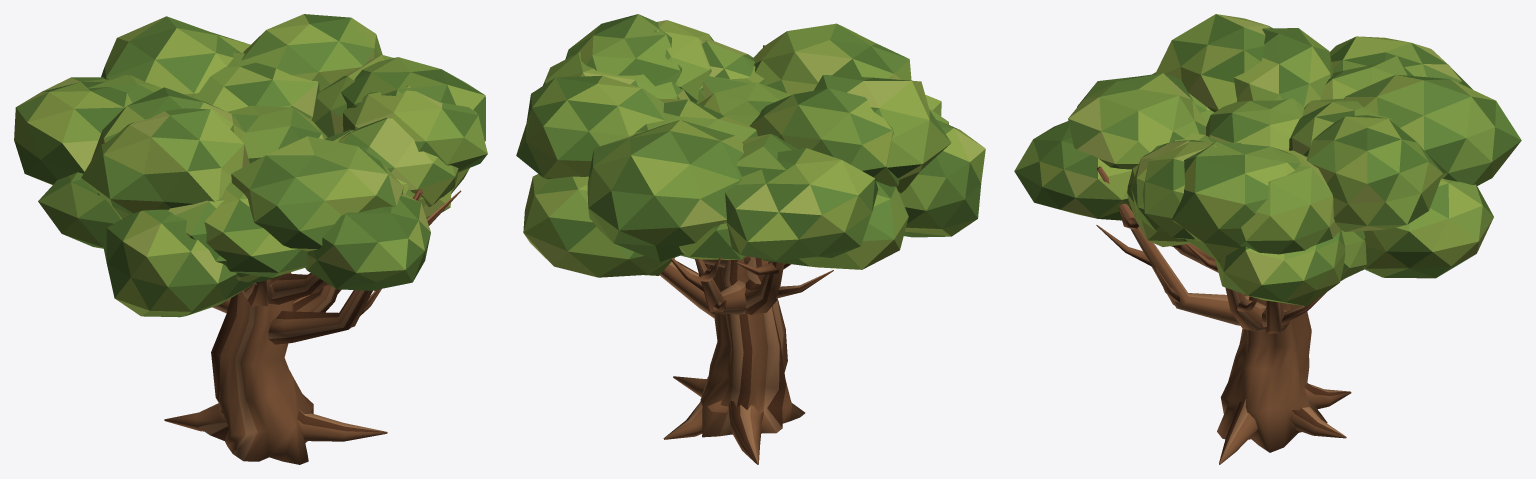
The model's file is ancient-oak-swaying.glb.
3 renders of one model, left to right at view 1: azimuth 30°, elevation 25°; view 2: azimuth 150°, elevation 25°; view 3: azimuth 270°, elevation 25°, orthographic. The views are drawn at different scales.
Visible parts, largest first — view 1: Oak_Canopy_Cluster.005, Ancient_Twisted_Trunk, Oak_Canopy_Cluster.016, Oak_Canopy_Cluster.013, Oak_Canopy_Cluster.003, Oak_Canopy_Cluster.002, Oak_Canopy_Cluster.020, Oak_Canopy_Cluster.017, Oak_Canopy_Cluster.006, Oak_Canopy_Cluster.021, Oak_Canopy_Cluster.012, Oak_Canopy_Cluster.019 (+14 smaller); view 2: Oak_Canopy_Cluster.020, Oak_Canopy_Cluster.002, Oak_Canopy_Cluster.017, Ancient_Twisted_Trunk, Oak_Canopy_Cluster.018, Oak_Canopy_Cluster.004, Oak_Canopy_Cluster.016, Oak_Canopy_Cluster.013, Oak_Canopy_Cluster.005, Oak_Canopy_Cluster.014, Oak_Canopy_Cluster.010, Oak_Canopy_Cluster.006 (+12 smaller); view 3: Oak_Canopy_Cluster.017, Oak_Canopy_Cluster.020, Oak_Canopy_Cluster.016, Oak_Canopy_Cluster.014, Ancient_Twisted_Trunk, Oak_Canopy_Cluster.004, Oak_Canopy_Cluster.003, Oak_Canopy_Cluster.005, Oak_Canopy_Cluster.001, Oak_Canopy_Cluster.022, Oak_Canopy_Cluster.018, Oak_Canopy_Cluster (+13 smaller).
Boxes of the visible parts, x1,y1,x2,y2 form: Oak_Canopy_Cluster.005: [81, 108, 249, 218]; Ancient_Twisted_Trunk: [198, 272, 313, 464]; Oak_Canopy_Cluster.016: [231, 136, 403, 251]; Oak_Canopy_Cluster.013: [102, 209, 253, 317]; Oak_Canopy_Cluster.003: [305, 193, 430, 290]; Oak_Canopy_Cluster.002: [14, 77, 131, 184]; Oak_Canopy_Cluster.020: [101, 16, 250, 96]; Oak_Canopy_Cluster.017: [241, 14, 382, 91]; Oak_Canopy_Cluster.006: [343, 85, 487, 172]; Oak_Canopy_Cluster.021: [204, 180, 307, 277]; Oak_Canopy_Cluster.012: [192, 52, 319, 119]; Oak_Canopy_Cluster.019: [338, 118, 458, 206]; Oak_Canopy_Cluster.020: [587, 120, 743, 261]; Oak_Canopy_Cluster.002: [725, 148, 878, 260]; Oak_Canopy_Cluster.017: [516, 75, 664, 179]; Ancient_Twisted_Trunk: [700, 256, 805, 437]; Oak_Canopy_Cluster.018: [750, 88, 899, 186]; Oak_Canopy_Cluster.004: [523, 174, 674, 277]; Oak_Canopy_Cluster.016: [753, 23, 911, 94]; Oak_Canopy_Cluster.013: [899, 120, 985, 237]; Oak_Canopy_Cluster.005: [814, 75, 951, 193]; Oak_Canopy_Cluster.014: [565, 14, 681, 86]; Oak_Canopy_Cluster.010: [762, 181, 908, 269]; Oak_Canopy_Cluster.006: [654, 20, 713, 102]; Oak_Canopy_Cluster.017: [1306, 115, 1442, 231]; Oak_Canopy_Cluster.020: [1344, 74, 1521, 185]; Oak_Canopy_Cluster.016: [1068, 73, 1206, 169]; Oak_Canopy_Cluster.014: [1172, 141, 1301, 261]; Ancient_Twisted_Trunk: [1217, 294, 1327, 452]; Oak_Canopy_Cluster.004: [1363, 178, 1493, 278]; Oak_Canopy_Cluster.003: [1014, 121, 1132, 220]; Oak_Canopy_Cluster.005: [1155, 14, 1272, 112]; Oak_Canopy_Cluster.001: [1231, 150, 1340, 254]; Oak_Canopy_Cluster.022: [1215, 229, 1345, 306]; Oak_Canopy_Cluster.018: [1234, 28, 1333, 106]; Oak_Canopy_Cluster: [1206, 98, 1304, 150].
Size of the model in its own units: 9.56 by 8.43 by 10.94.
